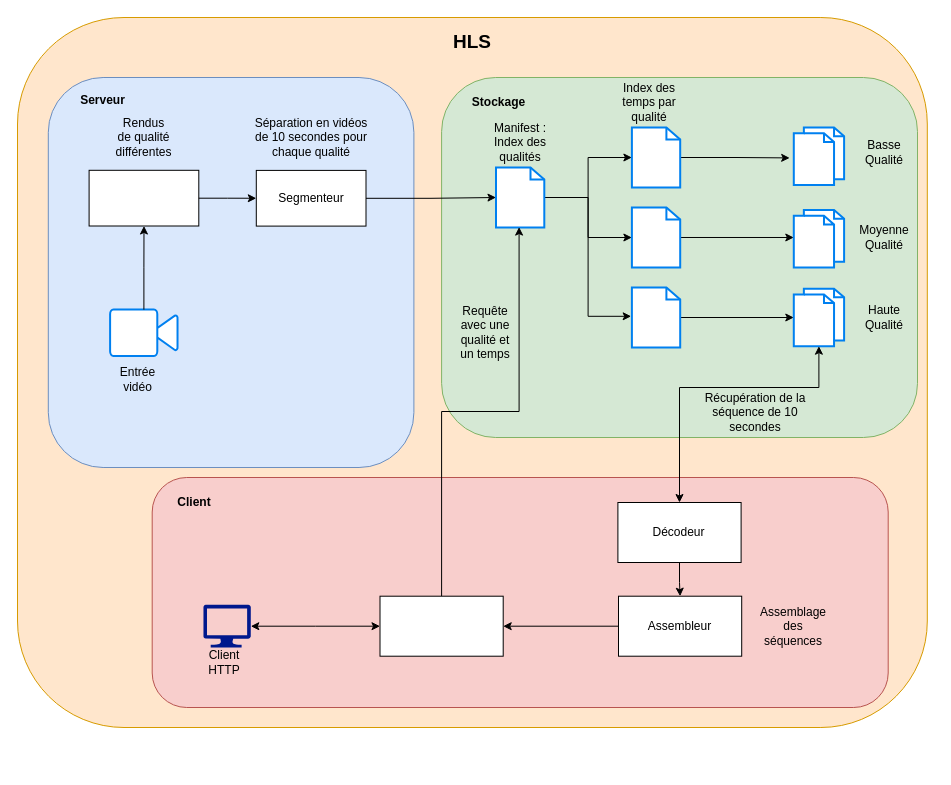
Image size: 951x785. Some labels were removed from this diagram. The shapes that lost their labels are listed below. From the top down, each one's box as (x1, y1, x2, y2) in pixels, then its label:
(88, 169, 199, 226): Encodeur
(379, 595, 503, 656): Page Web
